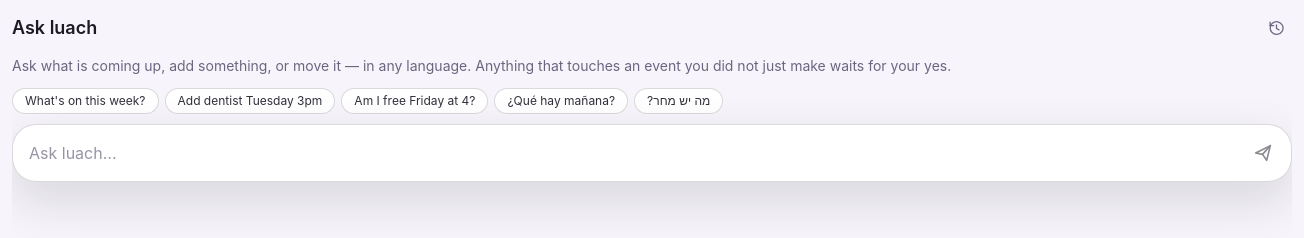
Test: the conversations a member has already had › lists them, newest first, with when and how long
Click the button named "Earlier conversations". click: (1276, 28)
box: [1260,12,1292,44]
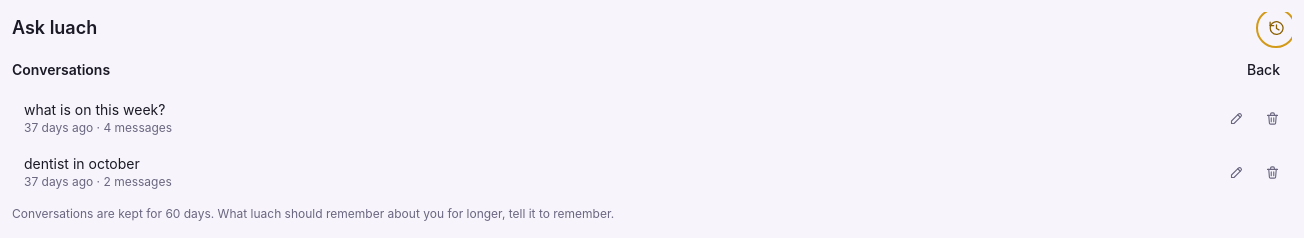
Now the text "what is on this week?" is shown, box [24,101,165,118]
Now the text "37 days ago · 4 messages" is shown, box [24,120,172,135]
Now the text "37 days ago · 2 messages" is shown, box [24,174,172,189]
